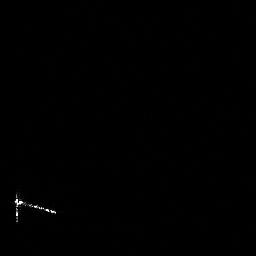ship: (10, 189, 59, 225)
